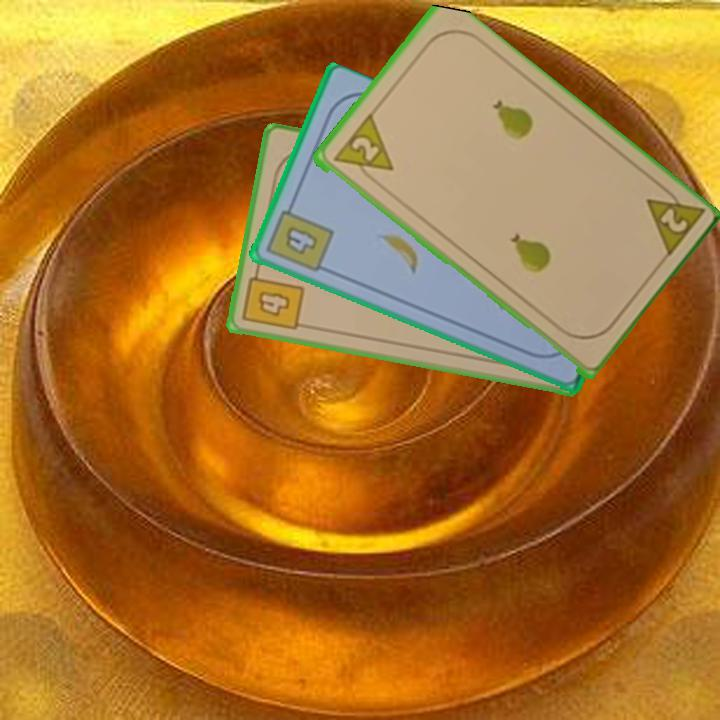2p: (641, 179, 706, 262), (329, 112, 396, 187)
4b: (263, 197, 337, 276), (239, 263, 307, 334)
